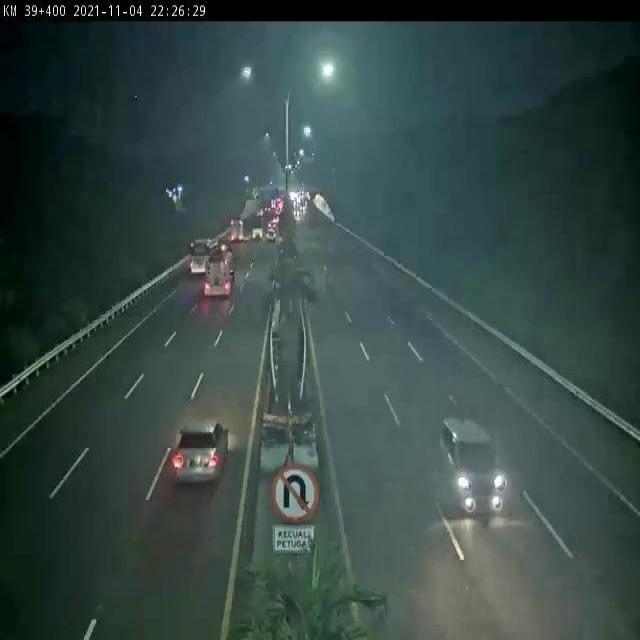bus-l-: (182, 231, 209, 284)
car: (434, 401, 518, 536), (170, 412, 234, 493)
truck-xl-: (204, 243, 250, 309)
